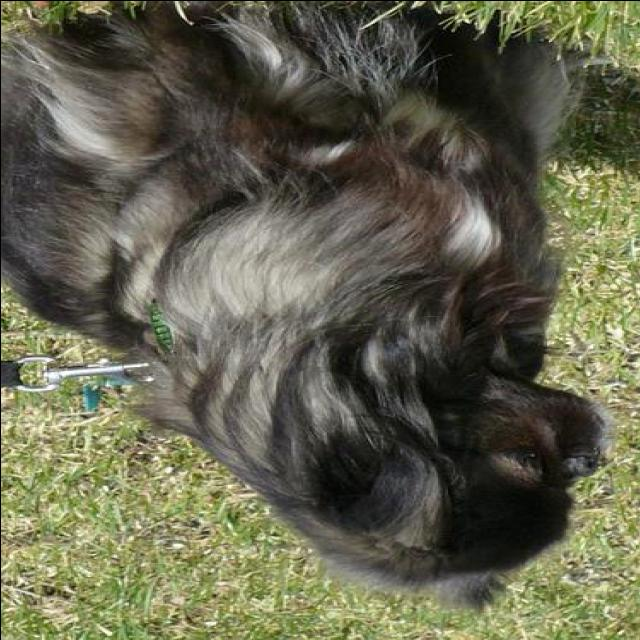pekinese: (3, 2, 601, 612)
